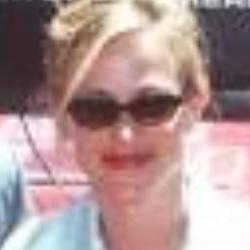face: (28, 1, 223, 222)
